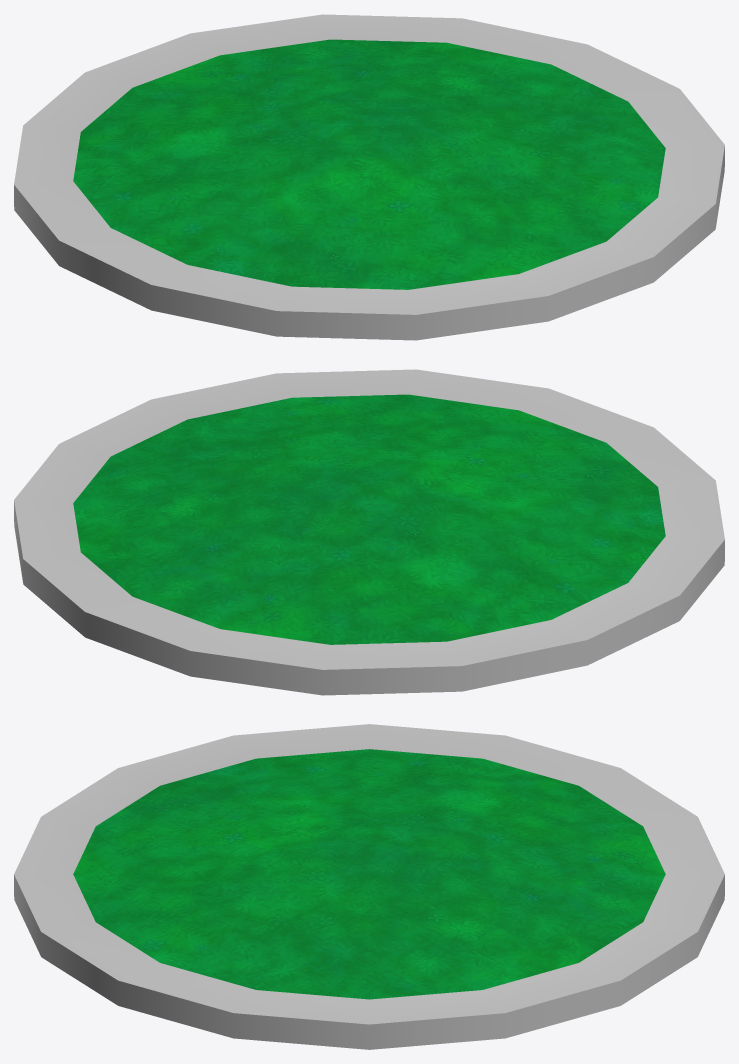
Rendered from Plant01_b06.FBX.
3 views of the same model, one above another, from view 1: azimuth 30°, elevation 25°; view 2: azimuth 150°, elevation 25°; view 3: azimuth 270°, elevation 25° (orthographic).
Parts seen in each view (by area): view 1: Plant01_b06; view 2: Plant01_b06; view 3: Plant01_b06.
Part boxes in pixels (left/top/right/bottom): Plant01_b06: left=14, top=14, right=724, bottom=340; Plant01_b06: left=14, top=369, right=724, bottom=695; Plant01_b06: left=14, top=724, right=724, bottom=1049.
Bounding box in the file's own units: 679 × 63.53 × 679.
